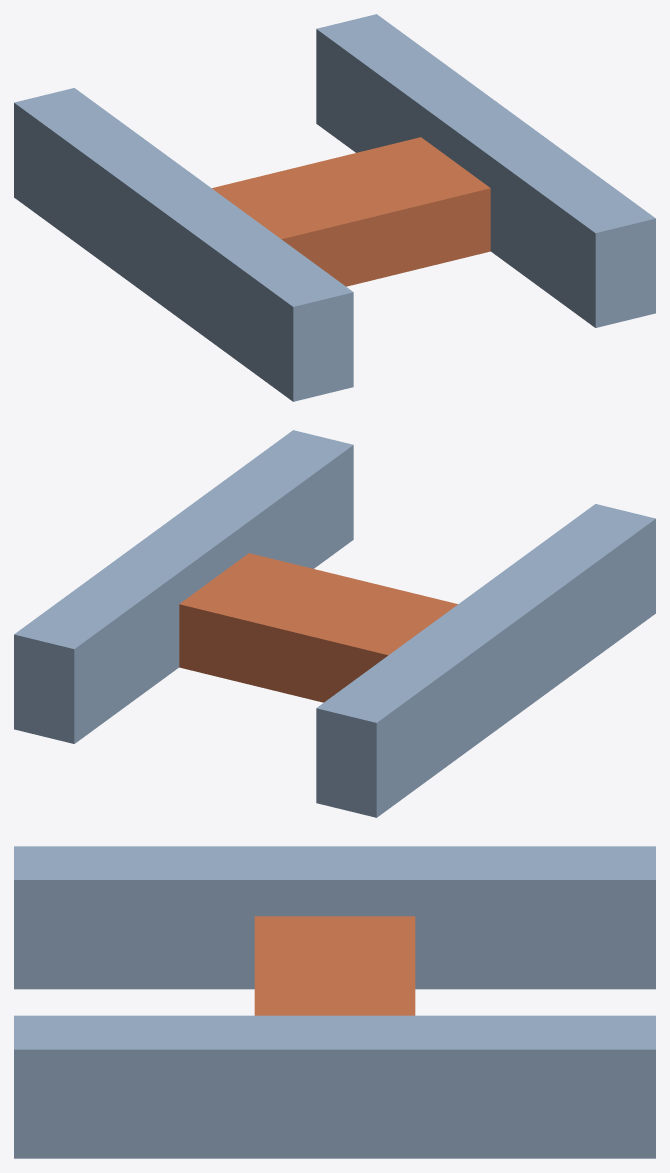
The model's file is train-trail.glb.
The picture shows the model from 3 angles, top to bottom: view 1: azimuth 30°, elevation 25°; view 2: azimuth 150°, elevation 25°; view 3: azimuth 270°, elevation 25°; orthographic projection. The views are drawn at different scales.
Parts seen in each view (by area): view 1: generated(Clone); view 2: generated(Clone); view 3: generated(Clone).
Boxes of the visible parts, left/top/right/bottom form: generated(Clone): left=14, top=14, right=655, bottom=401; generated(Clone): left=14, top=430, right=655, bottom=817; generated(Clone): left=14, top=846, right=655, bottom=1158.
Bounding box in the file's own units: 6 × 1.5 × 8.
Materials: 1 (1 with a texture image).
